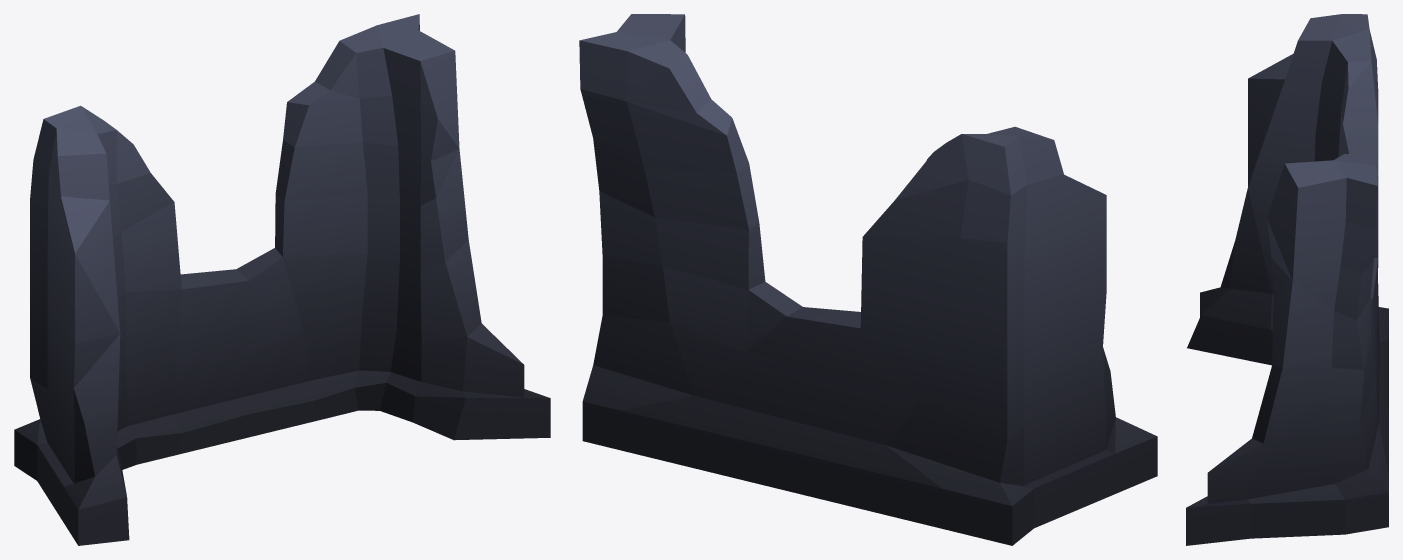
File: SM_Ruined_Walls_2.fbx
The picture shows the model from 3 angles, left to right: view 1: azimuth 30°, elevation 25°; view 2: azimuth 150°, elevation 25°; view 3: azimuth 270°, elevation 25°; orthographic projection. The views are drawn at different scales.
Parts seen in each view (by area): view 1: Ruined_Walls_2; view 2: Ruined_Walls_2; view 3: Ruined_Walls_2.
Boxes of the visible parts, x1,y1,x2,y2 form: Ruined_Walls_2: [14, 14, 550, 545]; Ruined_Walls_2: [579, 14, 1157, 545]; Ruined_Walls_2: [1186, 14, 1388, 545].
Size of the model in its own units: 359 by 264 by 141.
1 material, 1 textured.
